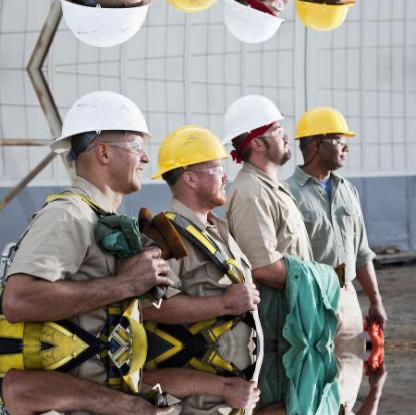Safety Helmet: (46, 86, 152, 198), (150, 122, 233, 215), (220, 92, 296, 174), (294, 103, 353, 177)
